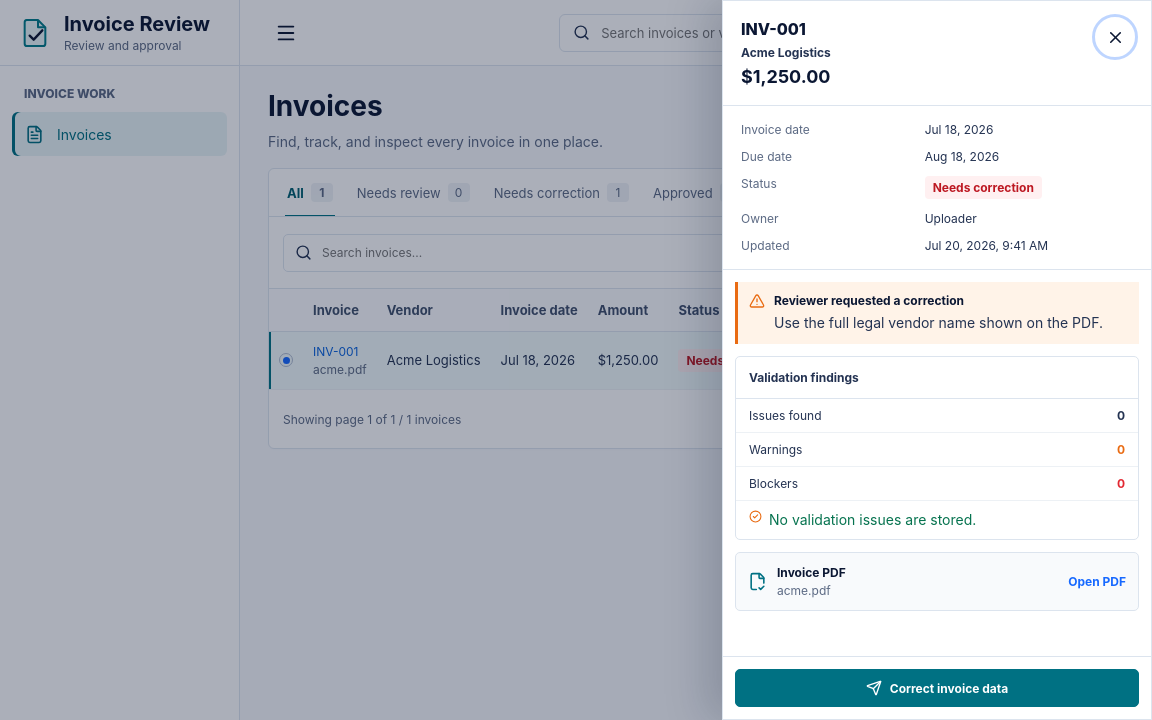
Test case: invoice library › lets the uploader answer a reviewer correction request
This screenshot has width=1152, height=720.
Expected: the text "Use the full legal vendor name shown on the PDF." is shown, [774,312,1103,333]
Step 1. Click the button "Correct invoice data" → (937, 688), box [735,669,1139,707]
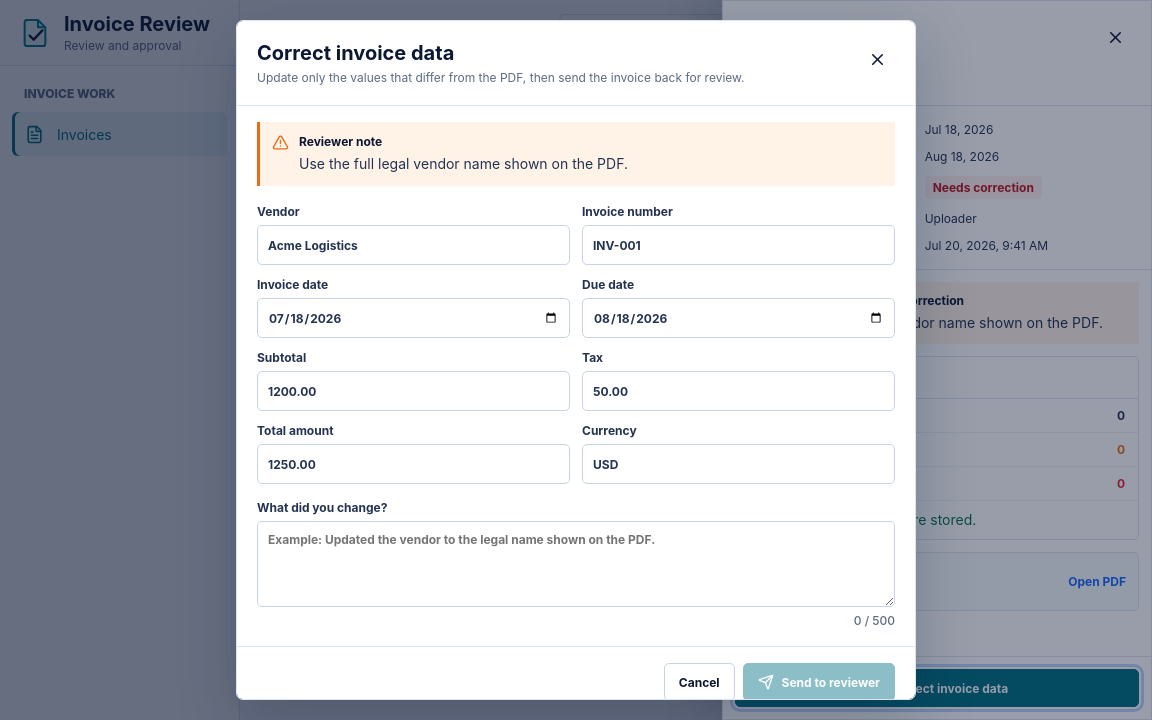
Step 2. Replace the text in the field labelled "Vendor" with "Acme Logistics Ltd" → (414, 245), box [257,225,570,265]
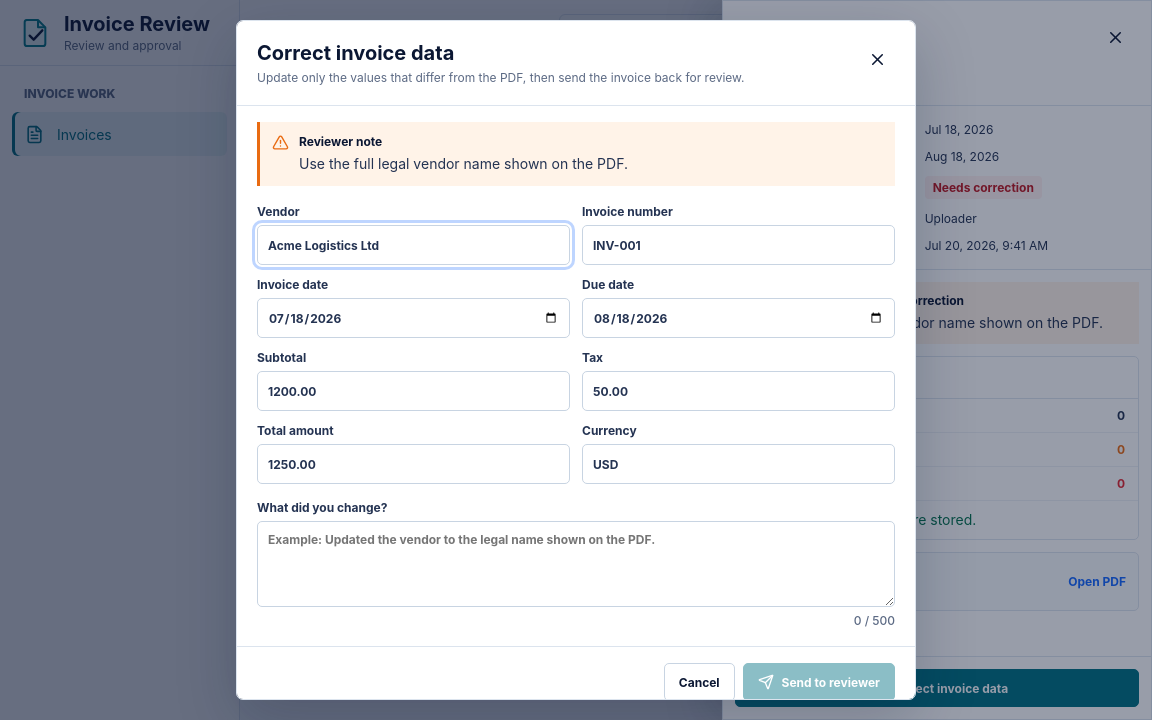
Step 3. Type "Matched the legal name on the PDF." into the text box labelled "What did you change?" → (576, 564), box [257,521,895,607]
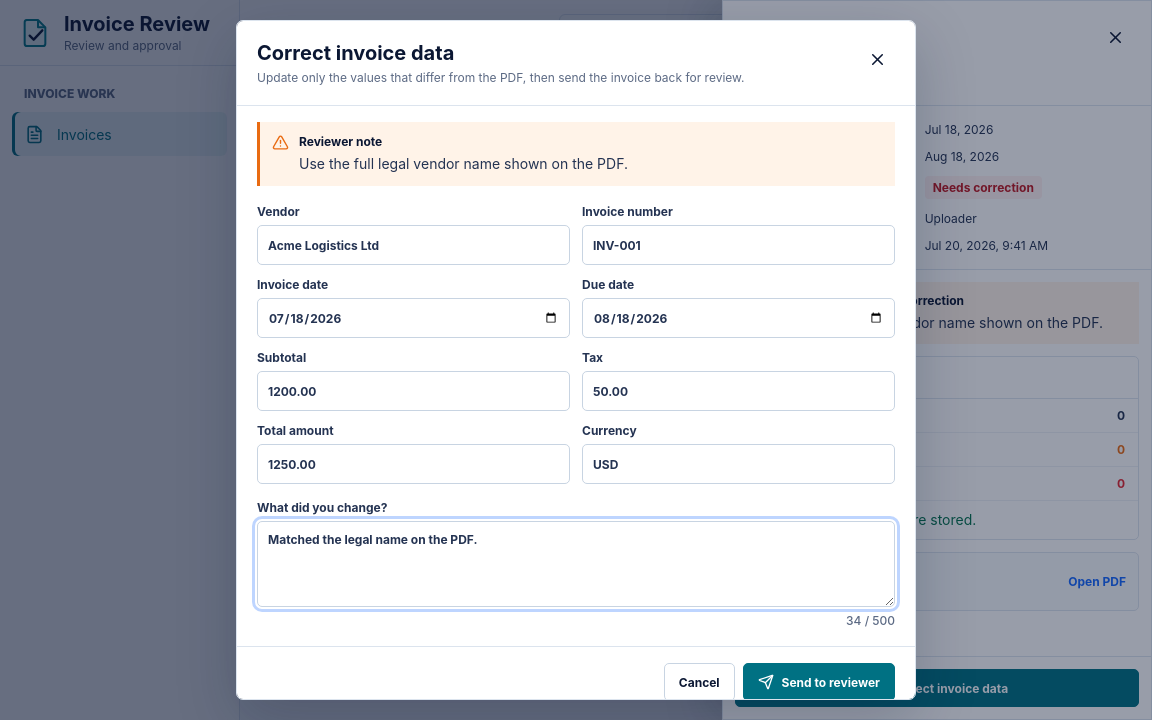
Step 4. Click the button "Send to reviewer" → (819, 682), box [743,663,895,701]
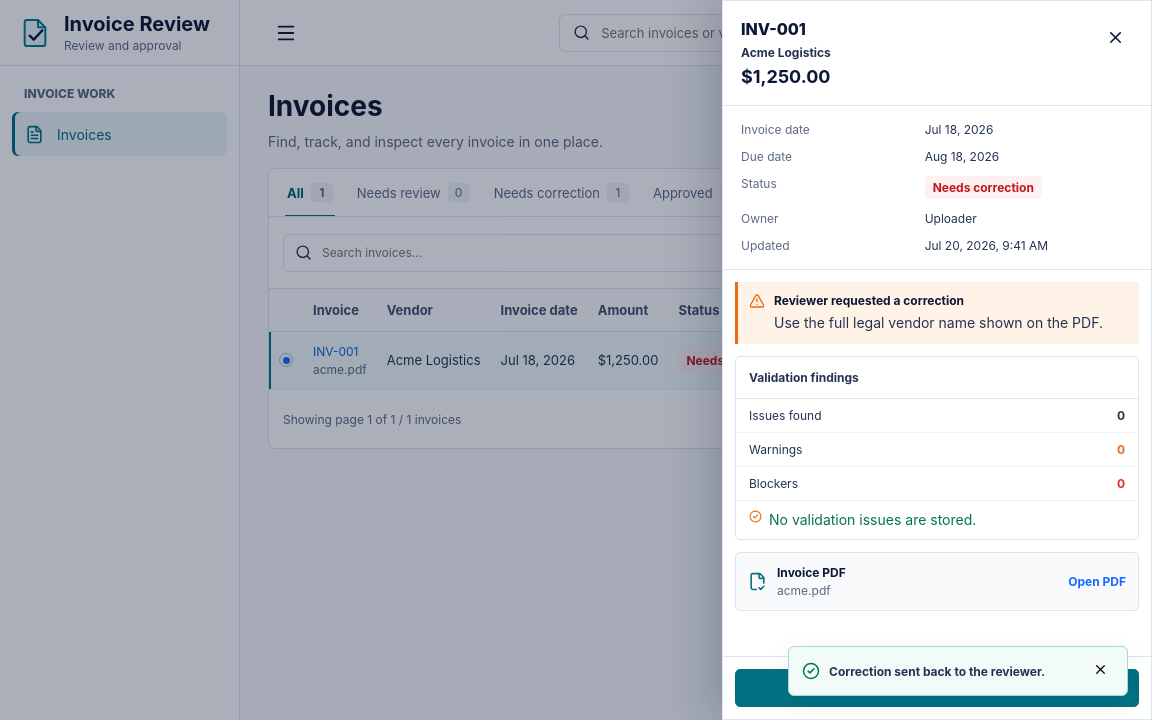
Now the text "Correction sent back to the reviewer." is shown, box [829,664,1078,678]
